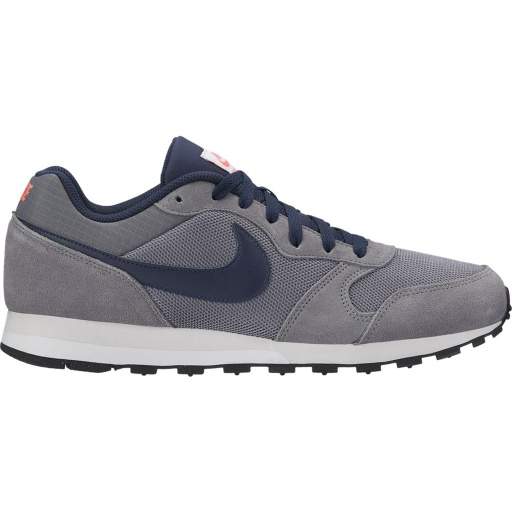nike: (45, 220, 277, 308)
